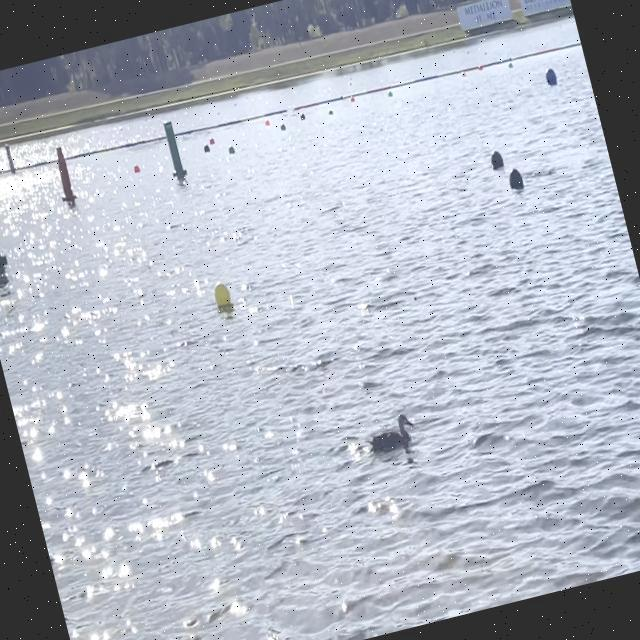buoy: (208, 271, 236, 318), (503, 162, 527, 194), (484, 144, 506, 172), (542, 64, 560, 88), (226, 145, 236, 156), (202, 142, 211, 154), (133, 163, 141, 174), (208, 135, 216, 146)
